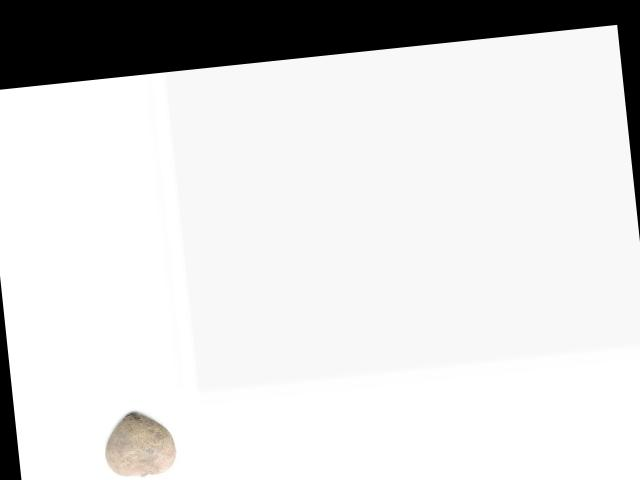beet: (101, 407, 178, 479)
